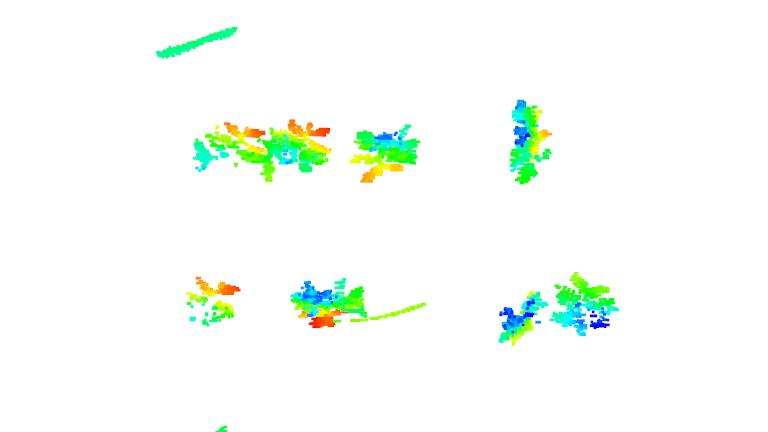chickpea: (187, 118, 270, 179), (351, 120, 420, 184), (289, 276, 366, 331), (505, 97, 551, 184), (555, 275, 614, 337), (267, 118, 333, 173), (183, 273, 243, 330), (495, 291, 551, 345)
